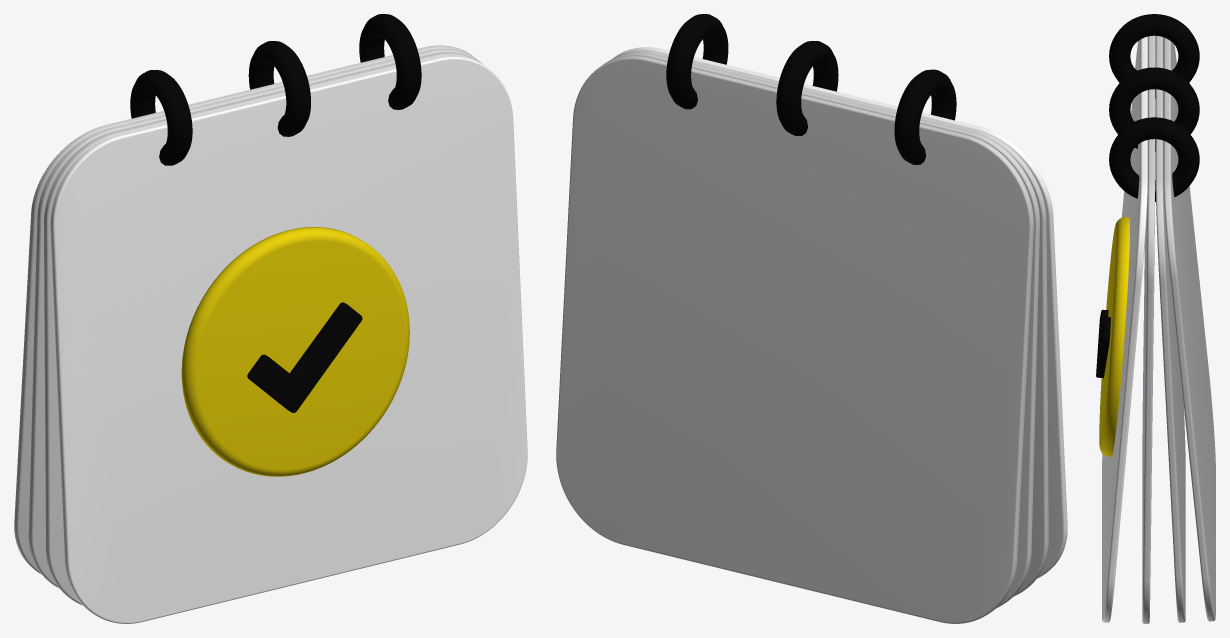
The model's file is check_2.glb.
The picture shows the model from 3 angles, left to right: view 1: azimuth 30°, elevation 25°; view 2: azimuth 150°, elevation 25°; view 3: azimuth 270°, elevation 25°; orthographic projection. The views are drawn at different scales.
Visible parts, largest first — view 1: Cube.009, Circle, Cube.008, Torus.001, Curve.002; view 2: Cube.008, Torus.001, Cube.009; view 3: Cube.008, Torus.001, Cube.009, Circle, Curve.002.
Part boxes in pixels (bbox=[...]): Cube.009: bbox=[50, 55, 527, 623]; Circle: bbox=[181, 227, 409, 476]; Cube.008: bbox=[14, 45, 483, 605]; Torus.001: bbox=[130, 14, 421, 165]; Curve.002: bbox=[247, 302, 362, 412]; Cube.008: bbox=[556, 50, 1048, 623]; Torus.001: bbox=[666, 14, 956, 164]; Cube.009: bbox=[614, 47, 1067, 578]; Cube.008: bbox=[1142, 35, 1215, 623]; Torus.001: bbox=[1109, 14, 1199, 201]; Cube.009: bbox=[1102, 36, 1147, 622]; Circle: bbox=[1099, 217, 1129, 456]; Curve.002: bbox=[1096, 309, 1110, 378].
Bounding box in the file's own units: 21.9 × 23.58 × 5.34.
